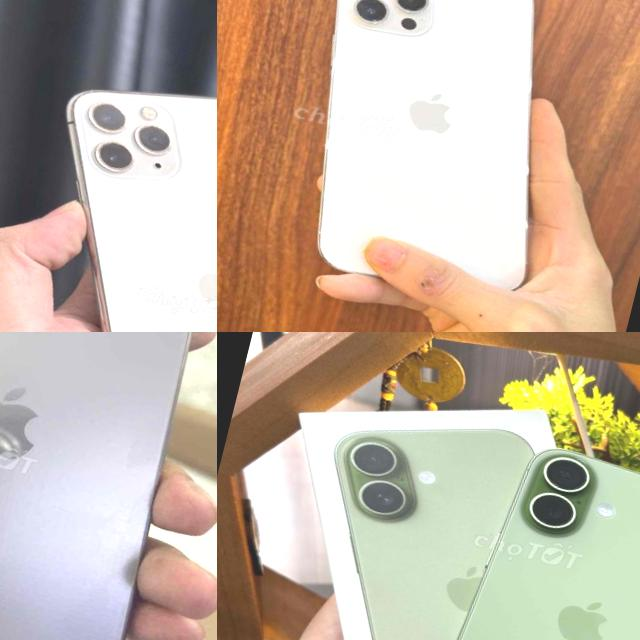gen_11: (0, 47, 217, 332)
gen_12_13: (263, 0, 598, 318)
gen_15: (0, 332, 217, 640)
gen_17: (409, 426, 640, 640)
